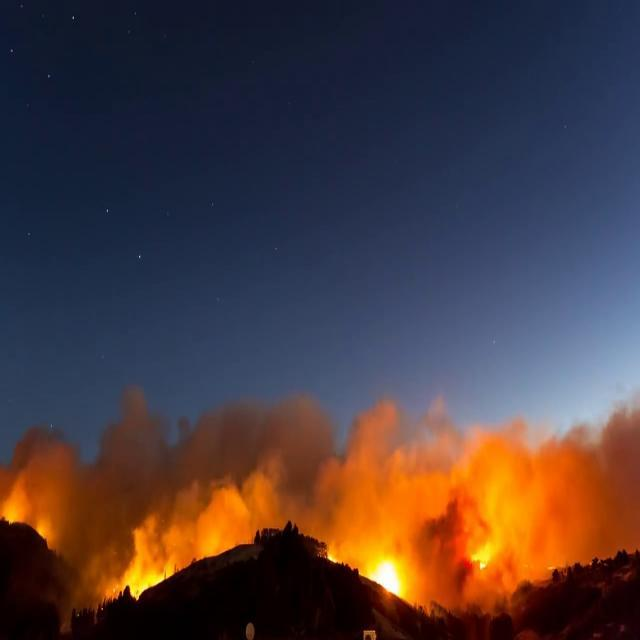Fire: (368, 551, 408, 599), (122, 570, 172, 601), (6, 477, 30, 523), (326, 550, 336, 564)
